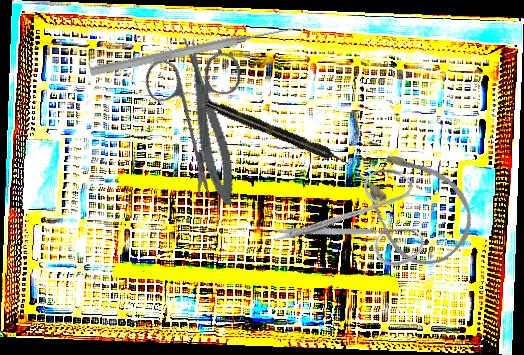Cannula: (340, 130, 489, 280)
Handpiece: (204, 97, 353, 170)
Iris Scissors: (266, 134, 452, 320), (104, 18, 289, 204)
Micro Scissor: (177, 33, 241, 209)
Pusher: (88, 22, 295, 79)
